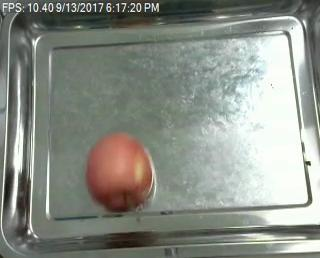apple: (88, 134, 154, 213)
